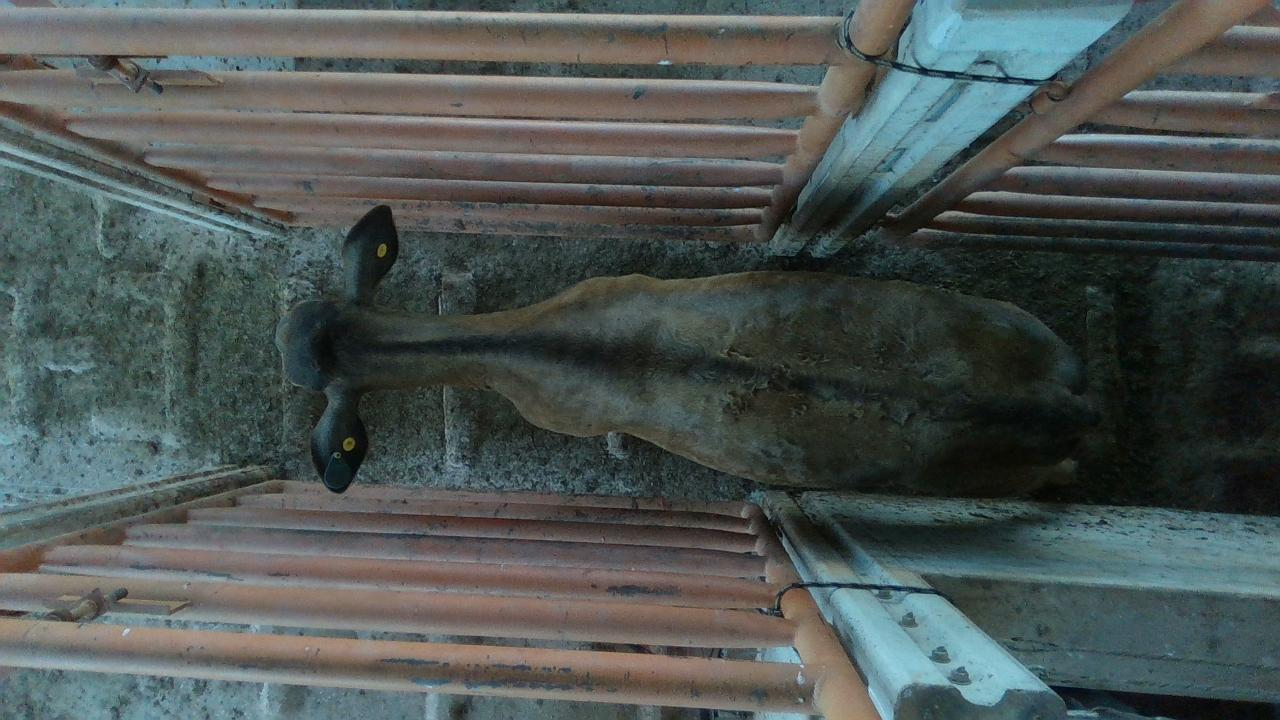cattle: (274, 202, 1101, 499)
